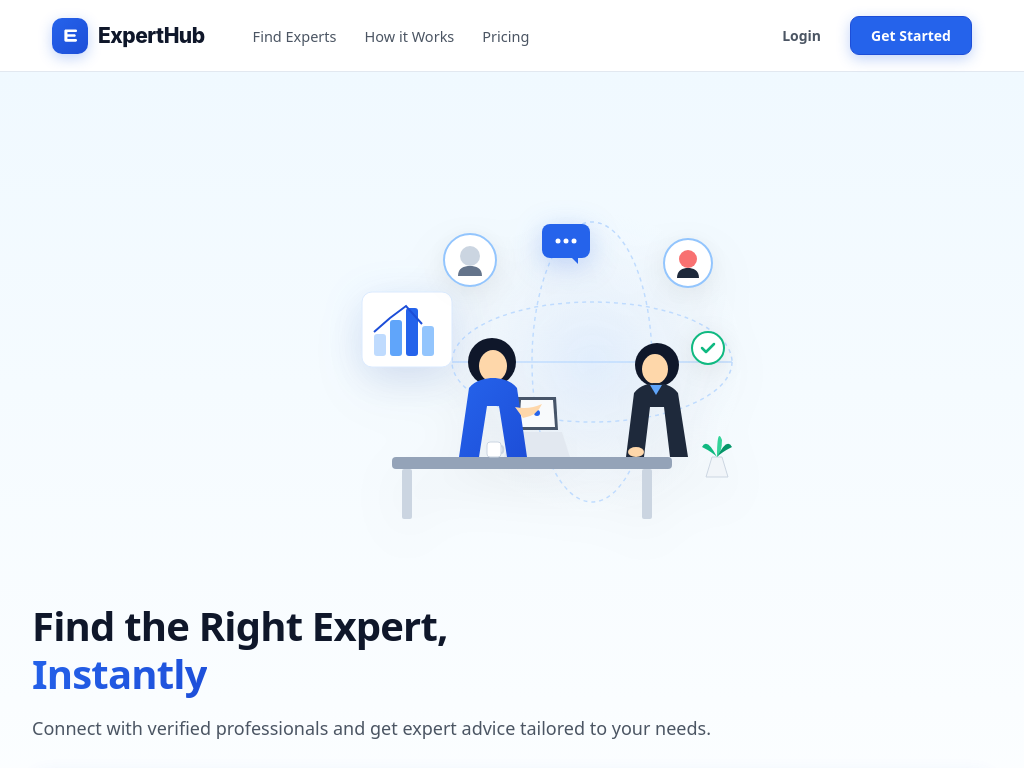
Test: App authentication shell › opens the sign-in form from the landing page
This screenshot has width=1024, height=768.
Expected: the heading "Find the Right Expert,Instantly" is shown, [32,598,448,701]
What coordinates should you click on to do the following:
click the button "Login"
I would click on:
 (802, 36)
Its box is [765,17,838,54].
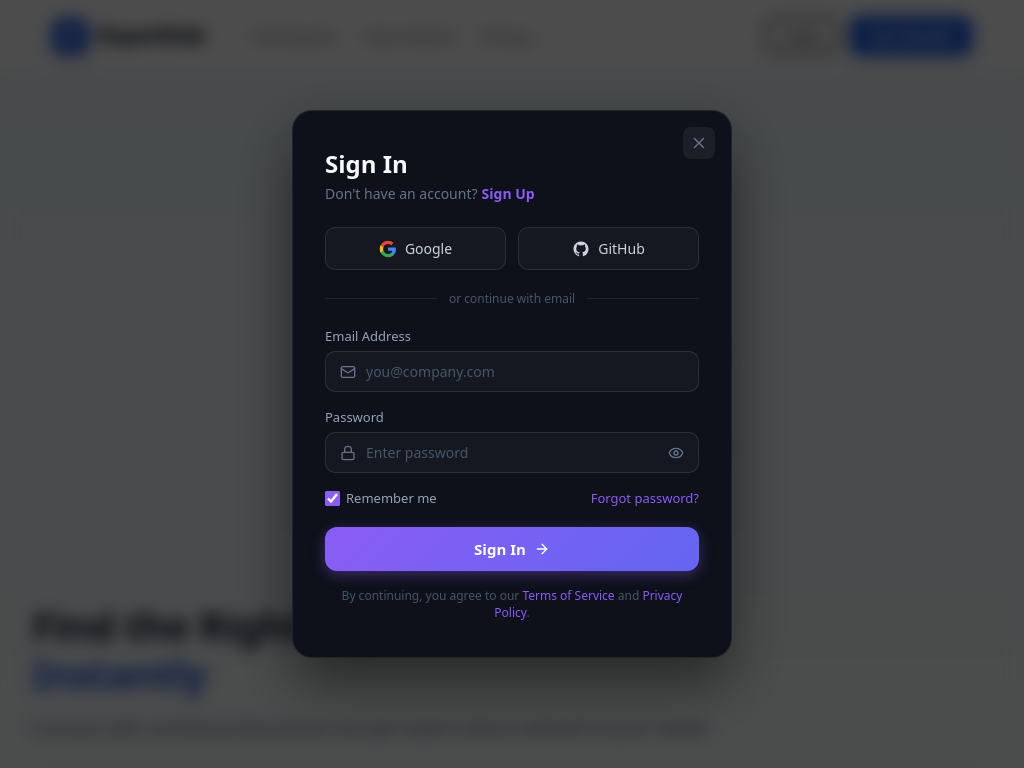
Expected: the heading "Sign In" is shown, [325,147,408,180]
Expected: the field labelled "Email Address" is shown, [366,362,684,381]
